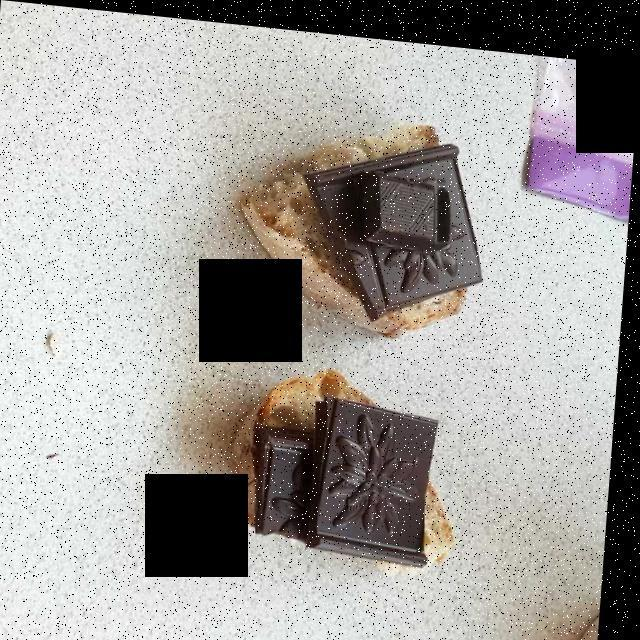chocolate: (250, 129, 494, 553)
